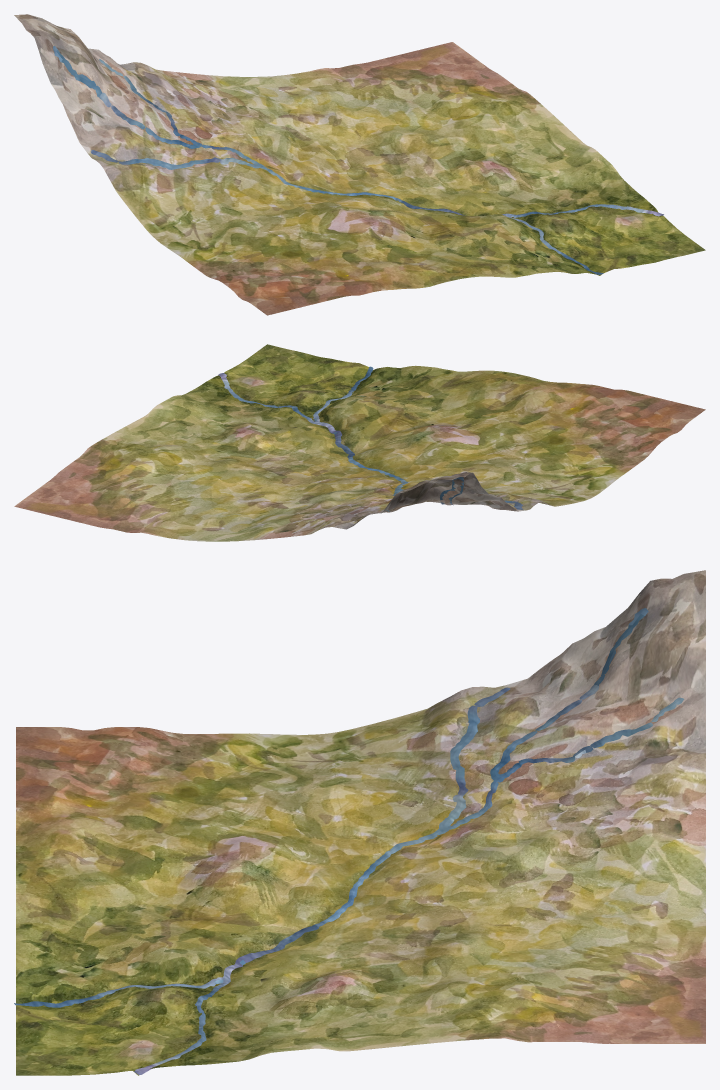
File: MAP2.glb
The picture shows the model from 3 angles, top to bottom: view 1: azimuth 30°, elevation 25°; view 2: azimuth 150°, elevation 25°; view 3: azimuth 270°, elevation 25°; orthographic projection. The views are drawn at different scales.
Parts seen in each view (by area): view 1: MAP2, MAP2.riviere; view 2: MAP2, MAP2.riviere; view 3: MAP2, MAP2.riviere.
Boxes of the visible parts, box(x1,y1,x2,y2) form: MAP2: box(14, 14, 705, 315); MAP2.riviere: box(53, 46, 663, 274); MAP2: box(14, 344, 705, 541); MAP2.riviere: box(218, 366, 523, 511); MAP2: box(16, 570, 705, 1075); MAP2.riviere: box(14, 608, 684, 1074).
Size of the model in its own units: 202 by 69.21 by 201.
2 materials, 2 textured.
